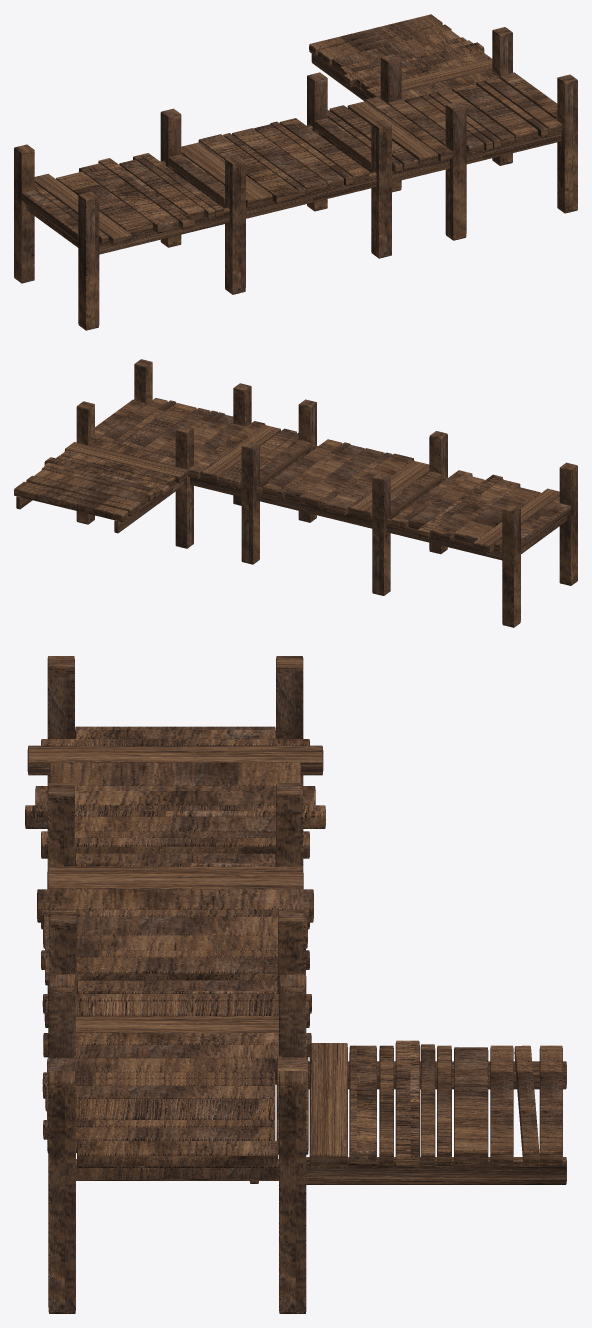
The model's file is Pine.fbx.
3 views of the same model, one above another, from view 1: azimuth 30°, elevation 25°; view 2: azimuth 150°, elevation 25°; view 3: azimuth 270°, elevation 25° (orthographic). The views are drawn at different scales.
Parts seen in each view (by area): view 1: Cube.143; view 2: Cube.143; view 3: Cube.143.
Part boxes in pixels (bbox=[...]): Cube.143: bbox=[14, 14, 577, 330]; Cube.143: bbox=[14, 359, 577, 627]; Cube.143: bbox=[25, 656, 566, 1313].
Bounding box in the file's own units: 795 × 200 × 423.
Materials: 1 (1 with a texture image).
